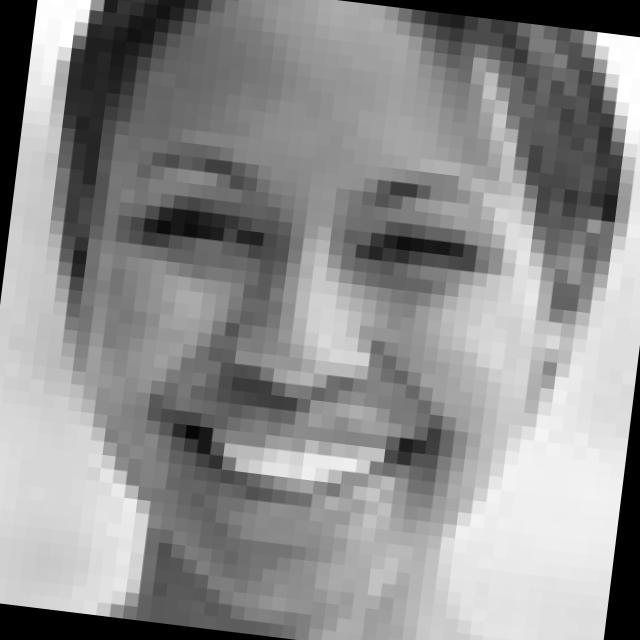happy: (85, 127, 529, 576)
